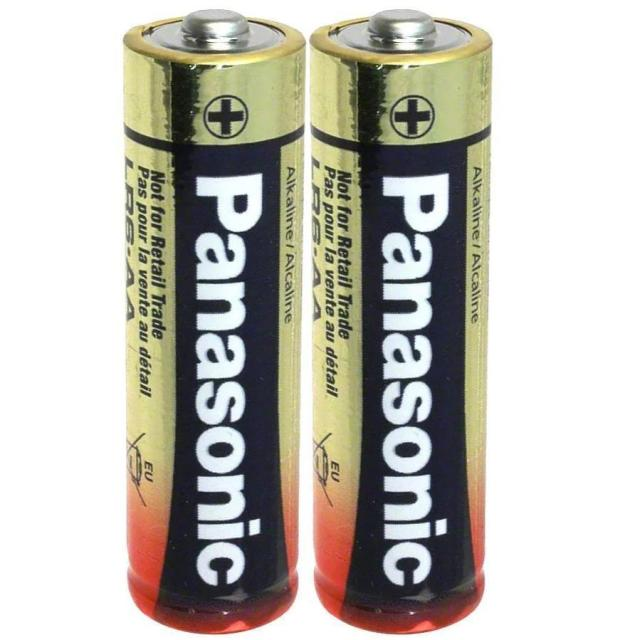AA: (119, 3, 309, 639), (308, 3, 498, 639)
